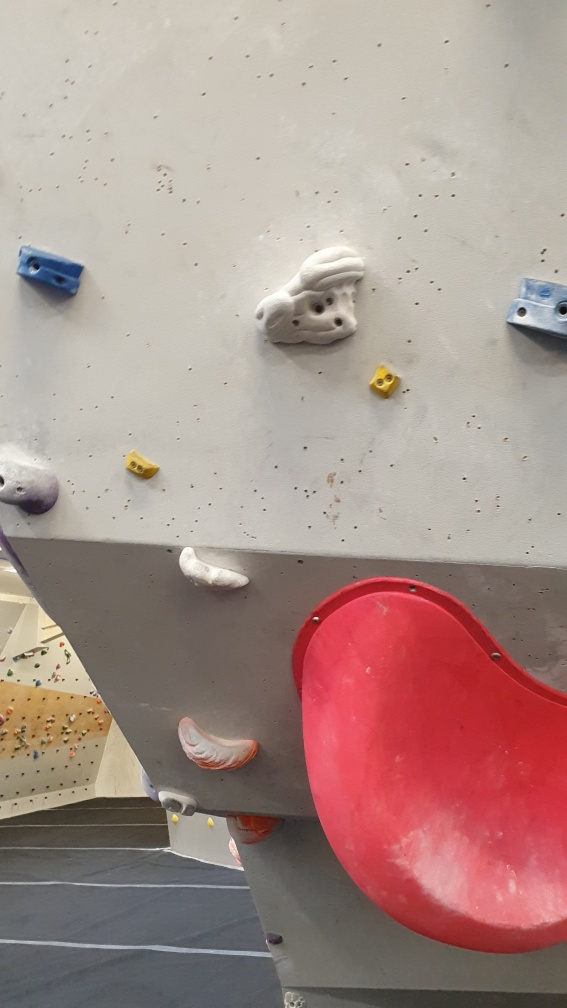Crimp: (117, 445, 170, 488)
Jug: (253, 243, 368, 348), (170, 713, 265, 772), (173, 540, 259, 599)
Pinch: (500, 269, 567, 339), (14, 242, 87, 298), (361, 360, 408, 401)
